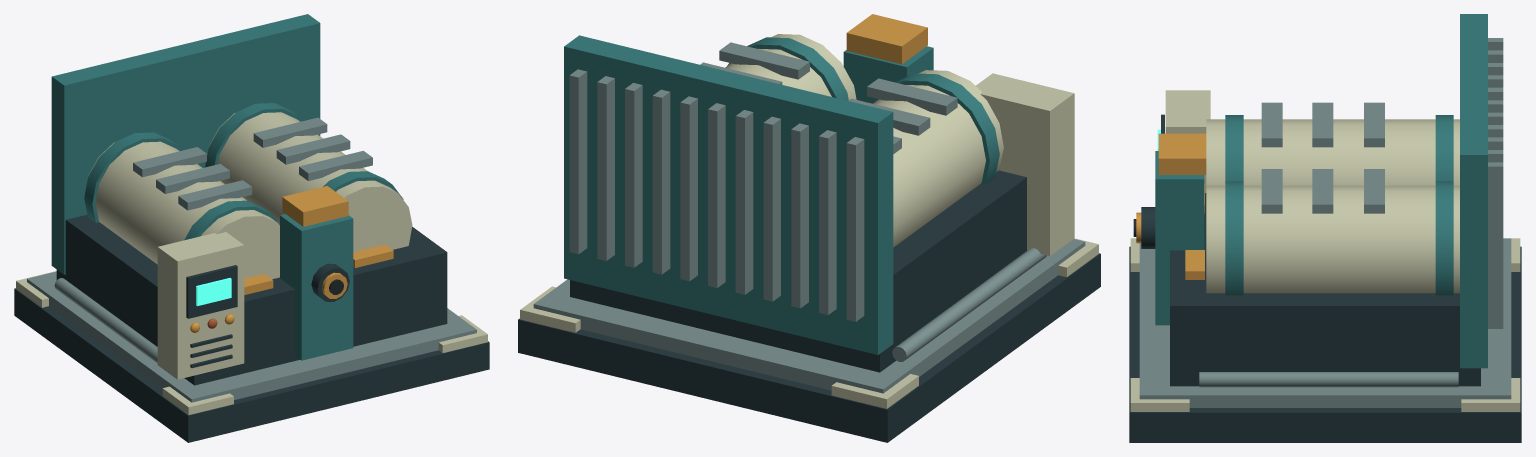
File: power-source.glb
3 views of the same model, side by side, from view 1: azimuth 30°, elevation 25°; view 2: azimuth 150°, elevation 25°; view 3: azimuth 270°, elevation 25° (orthographic). The views are drawn at different scales.
Parts seen in each view (by area): view 1: Batched static factory; view 2: Batched static factory; view 3: Batched static factory.
Boxes of the visible parts, bbox=[...] form: Batched static factory: bbox=[14, 14, 489, 442]; Batched static factory: bbox=[518, 14, 1100, 442]; Batched static factory: bbox=[1129, 14, 1521, 442].
Size of the model in its own units: 2.8 by 2.17 by 2.8.
